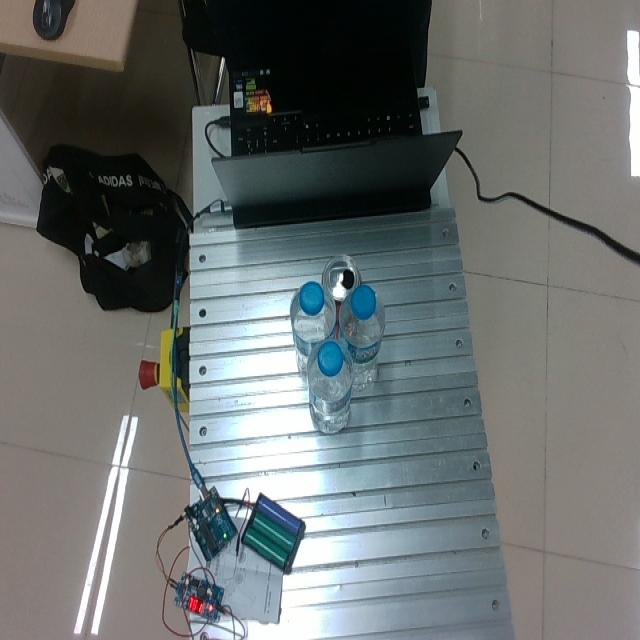coca: (321, 255, 362, 336)
lavie: (339, 284, 385, 391), (290, 281, 338, 379), (306, 339, 353, 432)
